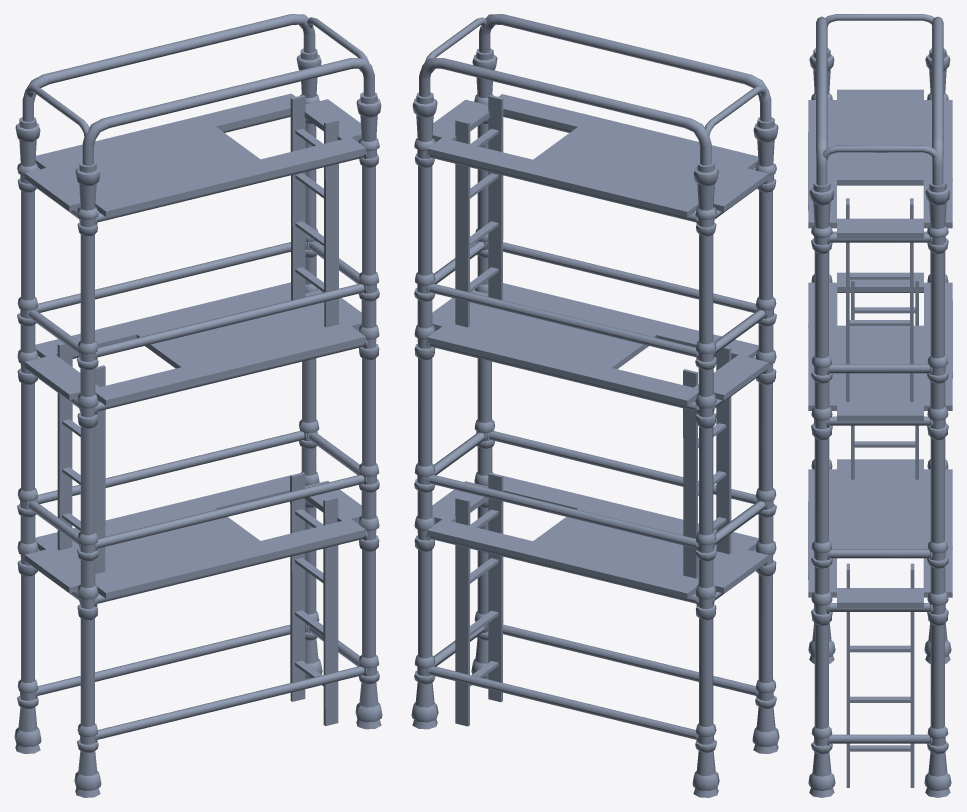
File: Scaffolding.fbx
3 renders of one model, left to right at view 1: azimuth 30°, elevation 25°; view 2: azimuth 150°, elevation 25°; view 3: azimuth 270°, elevation 25°, orthographic. The views are drawn at different scales.
Visible parts, largest first — view 1: LoopPlanken_low, VerticalePalen_low, HorizontalePalen_low, Ladders_low, BovenHekje_low; view 2: LoopPlanken_low, VerticalePalen_low, HorizontalePalen_low, Ladders_low, BovenHekje_low; view 3: LoopPlanken_low, VerticalePalen_low, Ladders_low, BovenHekje_low, HorizontalePalen_low.
Boxes of the visible parts, x1,y1,x2,y2 form: LoopPlanken_low: [24, 93, 365, 598]; VerticalePalen_low: [14, 48, 382, 797]; HorizontalePalen_low: [26, 114, 368, 741]; Ladders_low: [57, 95, 338, 726]; BovenHekje_low: [22, 14, 374, 165]; LoopPlanken_low: [427, 94, 768, 598]; VerticalePalen_low: [411, 48, 779, 797]; HorizontalePalen_low: [425, 114, 767, 741]; Ladders_low: [455, 95, 731, 726]; BovenHekje_low: [419, 14, 771, 165]; LoopPlanken_low: [808, 89, 952, 607]; VerticalePalen_low: [808, 48, 951, 797]; Ladders_low: [846, 198, 918, 787]; BovenHekje_low: [816, 14, 943, 185]; HorizontalePalen_low: [826, 231, 933, 745].
Size of the model in its own units: 473 by 997 by 201.
